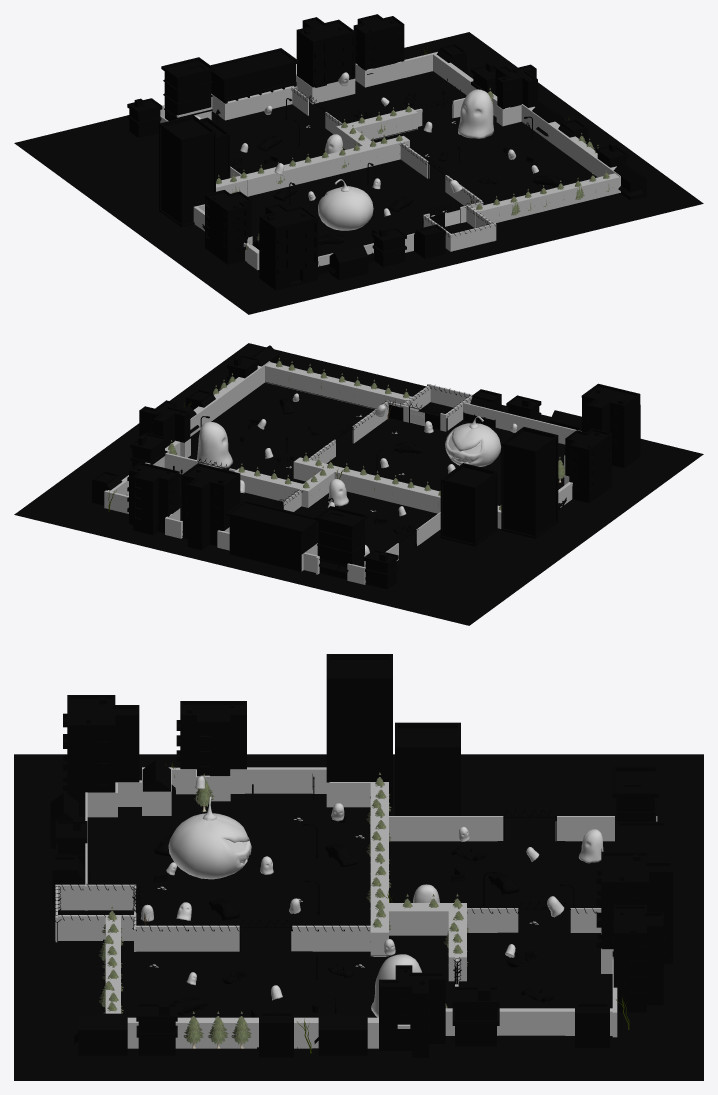
Rendered from medge.fbx.
The picture shows the model from 3 angles, top to bottom: view 1: azimuth 30°, elevation 25°; view 2: azimuth 150°, elevation 25°; view 3: azimuth 270°, elevation 25°; orthographic projection. The views are drawn at different scales.
Parts seen in each view (by area): view 1: floor, iteam, cube; view 2: floor, iteam, cube; view 3: floor, iteam, cube.
Boxes of the visible parts, box(x1,y1,x2,y2) form: floor: box(14, 32, 703, 314); iteam: box(127, 14, 646, 290); cube: box(160, 52, 620, 270); floor: box(14, 343, 703, 625); iteam: box(92, 345, 640, 589); cube: box(104, 361, 581, 584); floor: box(14, 754, 703, 1080); iteam: box(50, 654, 672, 1057); cube: box(55, 767, 657, 1048).
Bounding box in the file's own units: 8655 × 1606 × 7726.
